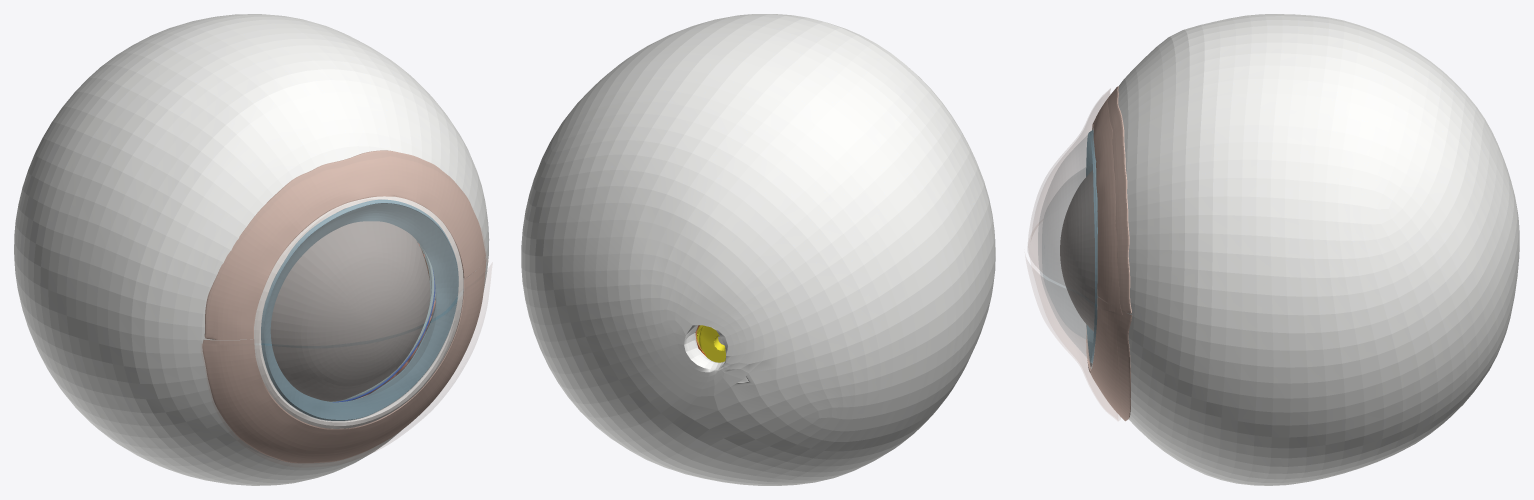
The model's file is 3DPX-020962.glb.
3 views of the same model, side by side, from view 1: azimuth 30°, elevation 25°; view 2: azimuth 150°, elevation 25°; view 3: azimuth 270°, elevation 25° (orthographic).
Visible parts, largest first — view 1: VH_F_sclera_L, VH_F_palpebral_conjunctiva_of_left_lower_eyelid, VH_F_aqueous_humor_L, VH_F_cornea_L, VH_F_bulbar_conjunctiva_L, VH_F_ciliary_body_L; view 2: VH_F_sclera_L, VH_F_iris_L; view 3: VH_F_sclera_L, VH_F_palpebral_conjunctiva_of_left_lower_eyelid, VH_F_bulbar_conjunctiva_L, VH_F_cornea_L, VH_F_aqueous_humor_L.
Part boxes in pixels (box(x1,y1,x2,y2)): VH_F_sclera_L: box(14, 14, 489, 485); VH_F_palpebral_conjunctiva_of_left_lower_eyelid: box(201, 157, 491, 466); VH_F_aqueous_humor_L: box(261, 199, 458, 420); VH_F_cornea_L: box(261, 201, 458, 420); VH_F_bulbar_conjunctiva_L: box(202, 150, 486, 463); VH_F_ciliary_body_L: box(326, 240, 435, 402); VH_F_sclera_L: box(521, 14, 995, 485); VH_F_iris_L: box(697, 325, 725, 362); VH_F_sclera_L: box(1089, 14, 1519, 485); VH_F_palpebral_conjunctiva_of_left_lower_eyelid: box(1026, 89, 1121, 420); VH_F_bulbar_conjunctiva_L: box(1086, 86, 1132, 421); VH_F_cornea_L: box(1038, 131, 1096, 362); VH_F_aqueous_humor_L: box(1060, 130, 1097, 363).
Size of the model in its own units: 0.0245 by 0.0244 by 0.0257.
6 materials, 6 textured.
